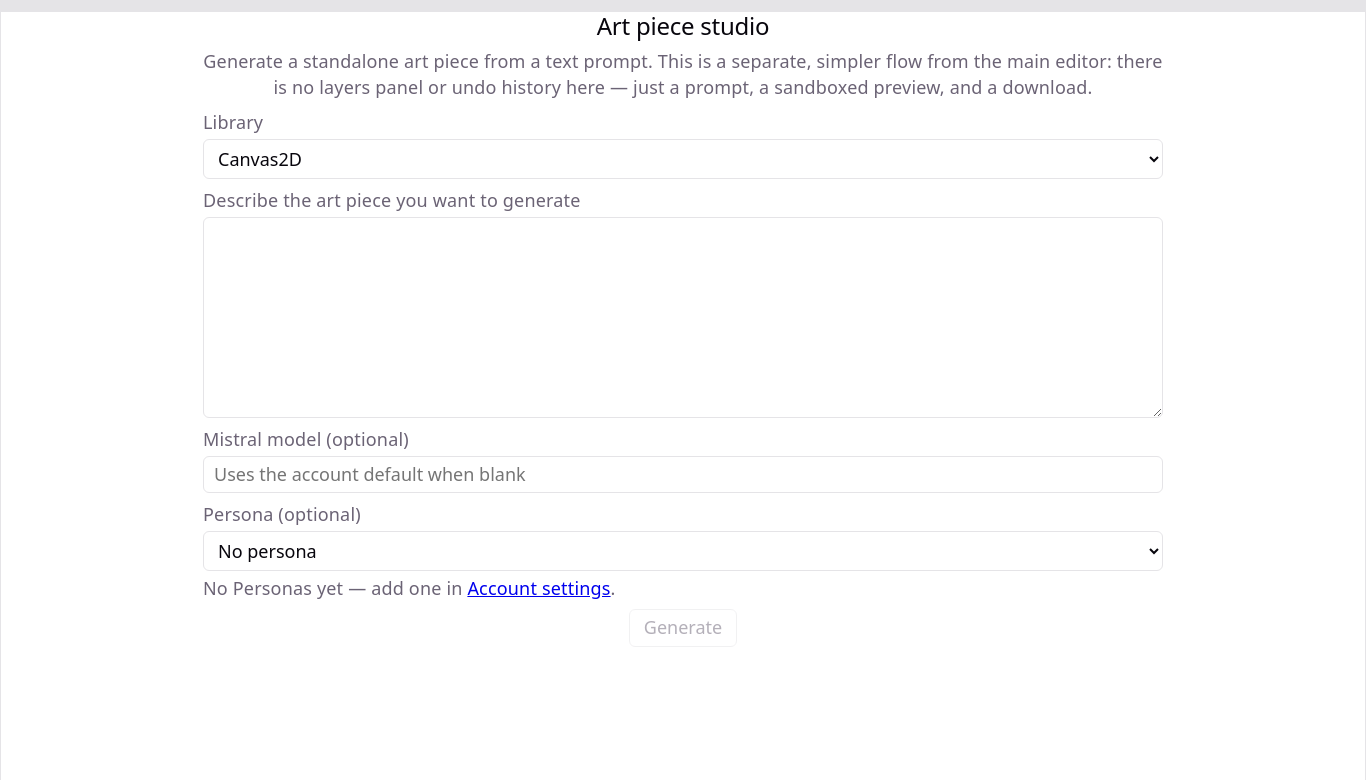
Test: ArtPieceStudio (issue #199) › shows additive retry guidance while retaining the structured-output reason
The image size is (1366, 780).
In the text box labelled "Describe the art piece you want to generate": point(683, 317) [203,217,1163,418], type "a circle"
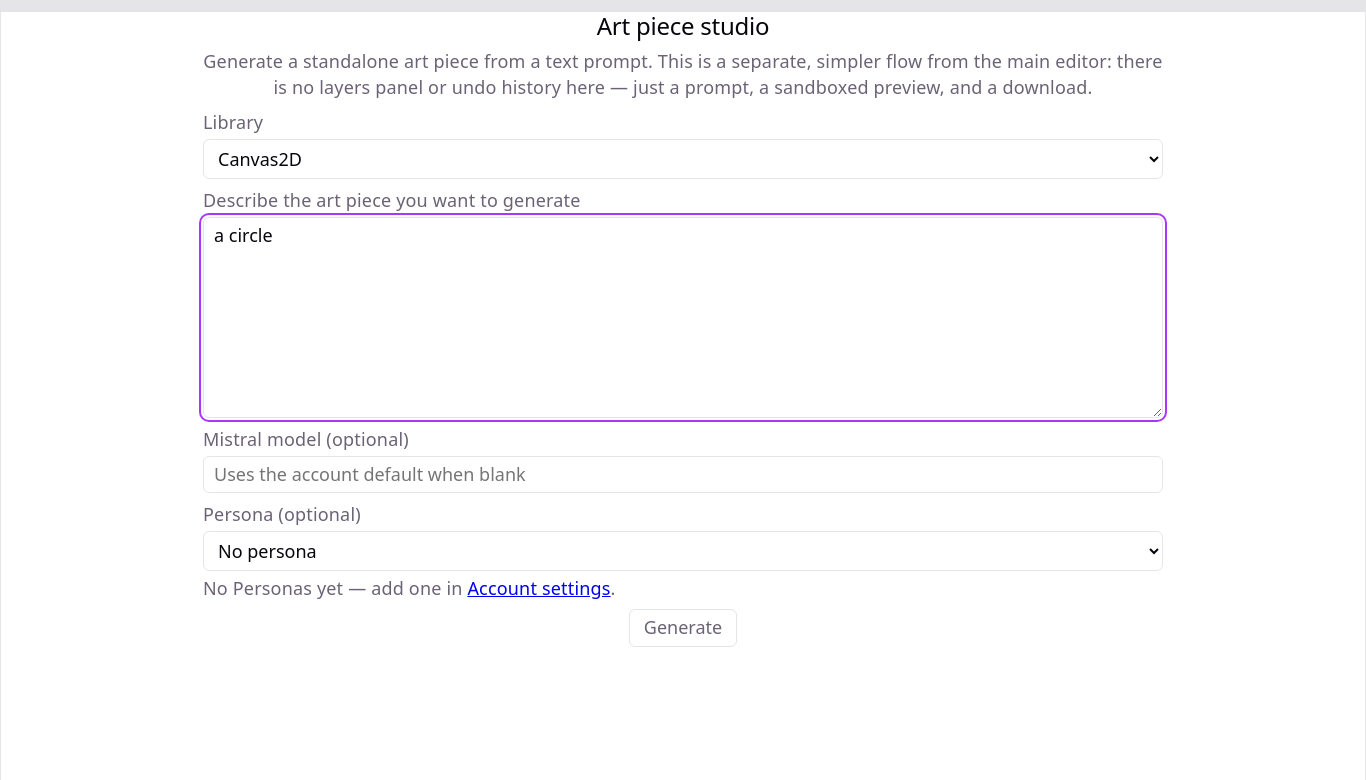
Click the button "Generate": point(683, 628) [629,610,737,647]
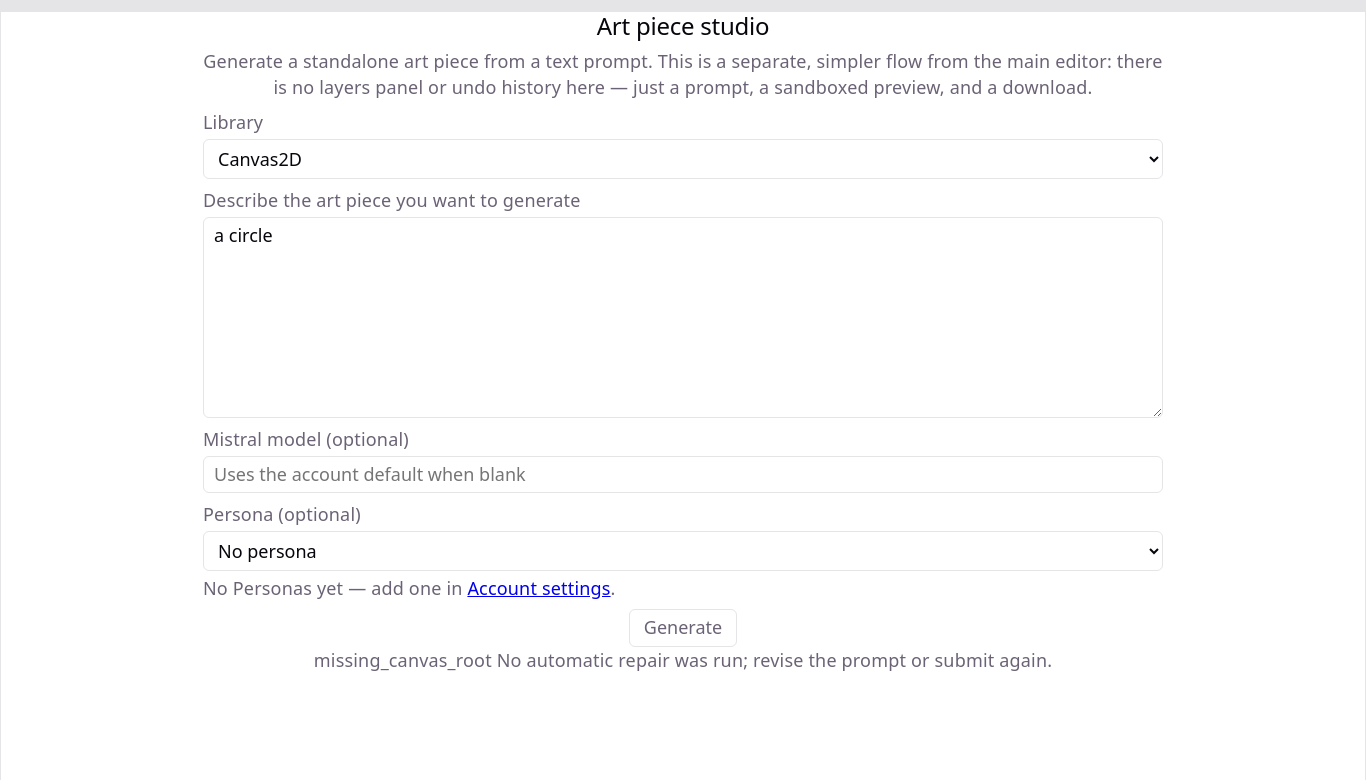
expect the message with test id "art-piece-error" shows "missing_canvas_root": met, box [314,648,1052,672]
expect the message with test id "art-piece-error" shows "No automatic repair was run": met, box [314,648,1052,672]
